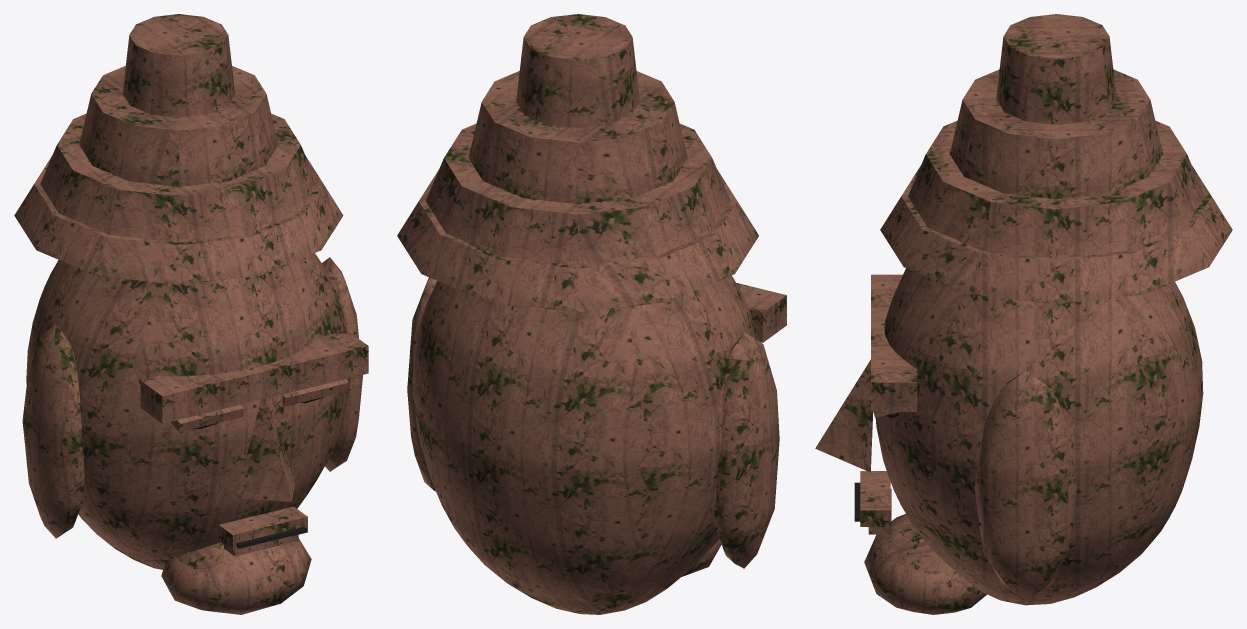
The model's file is ColossalHead.fbx.
The picture shows the model from 3 angles, left to right: view 1: azimuth 30°, elevation 25°; view 2: azimuth 150°, elevation 25°; view 3: azimuth 270°, elevation 25°; orthographic projection. The views are drawn at different scales.
Visible parts, largest first — view 1: ColossalHead_LOD0; view 2: ColossalHead_LOD0; view 3: ColossalHead_LOD0.
Boxes of the visible parts, box(x1,y1,x2,y2) form: ColossalHead_LOD0: box(14, 14, 368, 614); ColossalHead_LOD0: box(397, 14, 786, 614); ColossalHead_LOD0: box(815, 14, 1232, 614).
Size of what is drawn, in the model's own units: 16.91 by 26.99 by 18.
